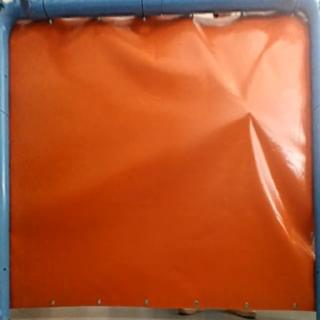Hit-hRxx: (244, 107, 255, 119)
